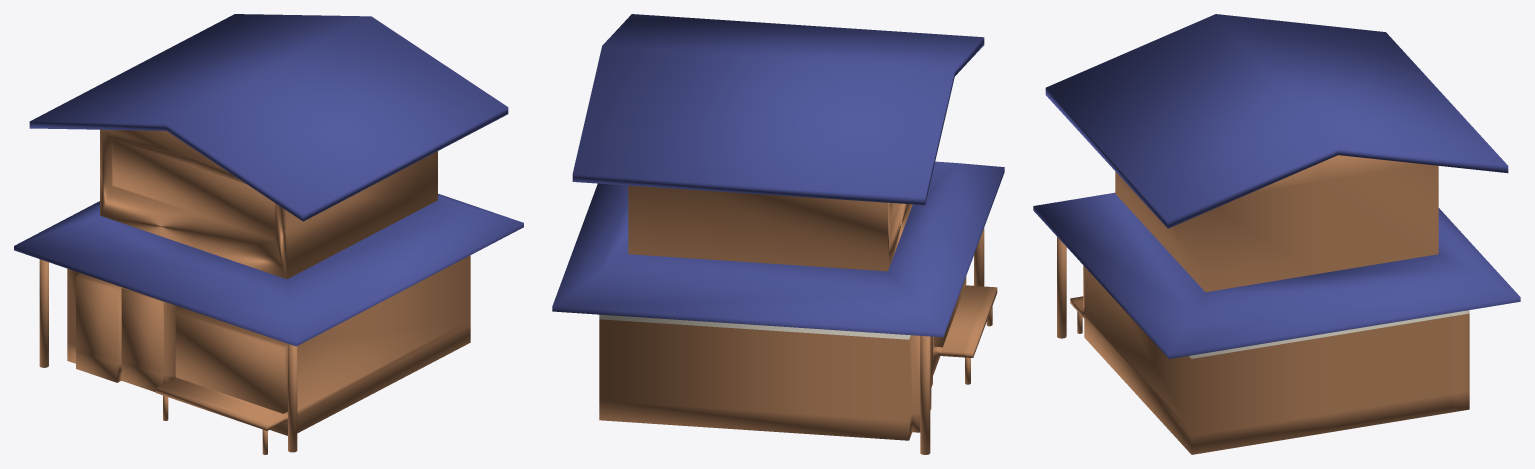
Rendered from 076_古民家008.glb.
3 renders of one model, left to right at view 1: azimuth 30°, elevation 25°; view 2: azimuth 150°, elevation 25°; view 3: azimuth 270°, elevation 25°, orthographic. The views are drawn at different scales.
Visible parts, largest first — view 1: 立方体140_1, 立方体140_3, 立方体140_4, 立方体140; view 2: 立方体140_1, 立方体140_3, 立方体140, 立方体140_2, 立方体140_4; view 3: 立方体140_1, 立方体140_3, 立方体140_2, 立方体140.
Part boxes in pixels (bbox=[...]): 立方体140_1: bbox=[14, 14, 523, 346]; 立方体140_3: bbox=[67, 129, 470, 435]; 立方体140_4: bbox=[76, 139, 287, 413]; 立方体140: bbox=[39, 259, 297, 454]; 立方体140_1: bbox=[552, 14, 1004, 337]; 立方体140_3: bbox=[599, 185, 997, 440]; 立方体140: bbox=[920, 228, 992, 454]; 立方体140_2: bbox=[599, 314, 910, 339]; 立方体140_4: bbox=[890, 203, 966, 432]; 立方体140_1: bbox=[1033, 14, 1520, 358]; 立方体140_3: bbox=[1070, 155, 1469, 454]; 立方体140_2: bbox=[1189, 310, 1469, 358]; 立方体140: bbox=[1057, 237, 1083, 338].
Size of the model in its own units: 3.7 by 2.53 by 3.7.
